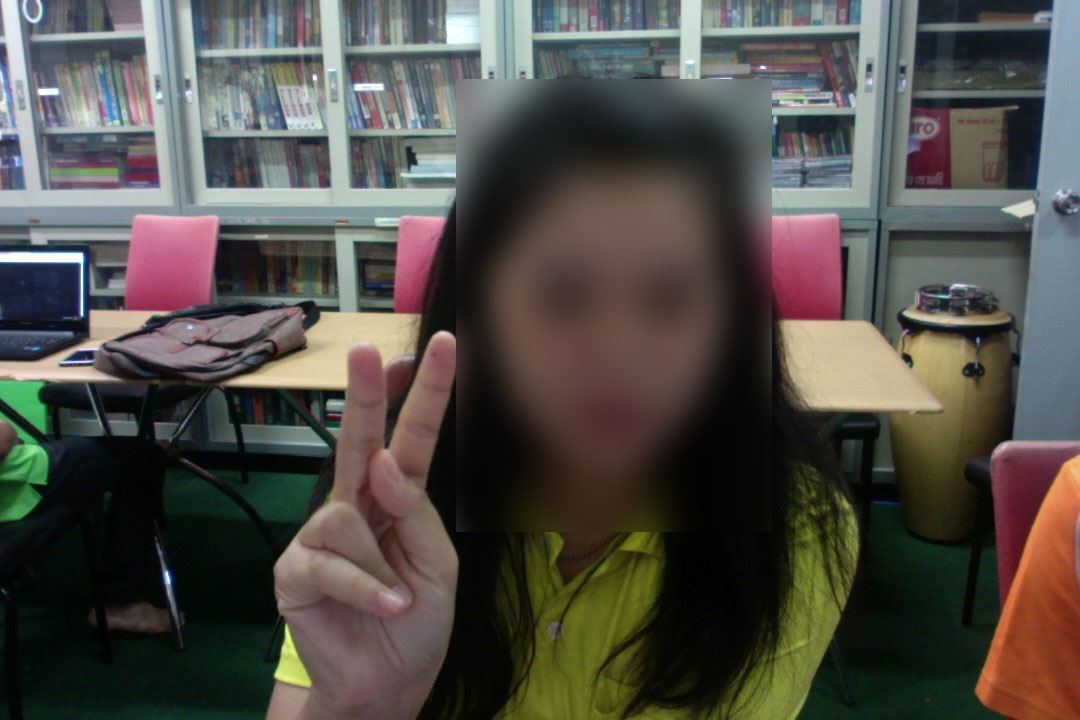ko: (264, 325, 481, 719)
